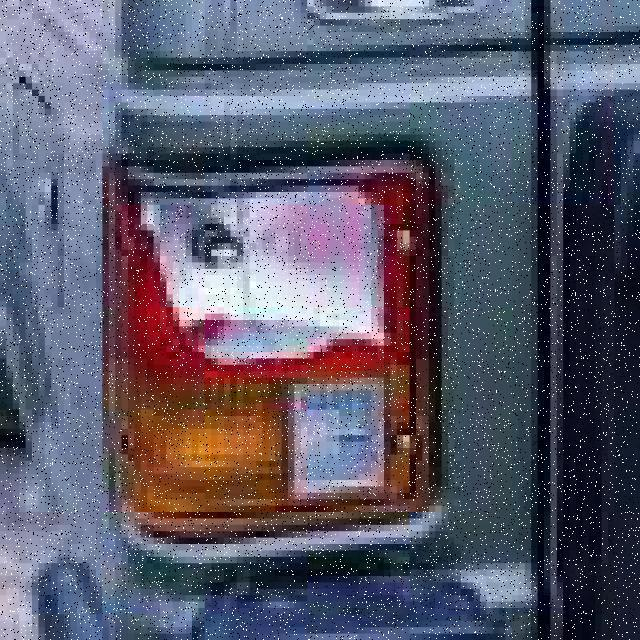door: (64, 90, 480, 570)
